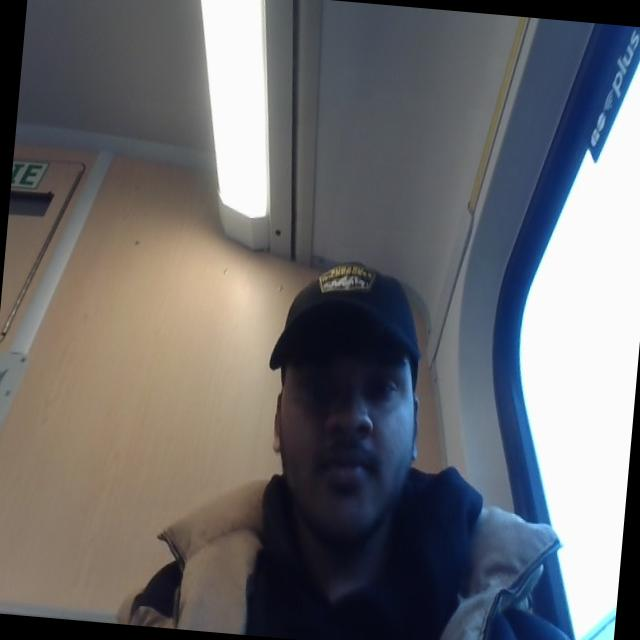hat: (265, 255, 436, 384)
